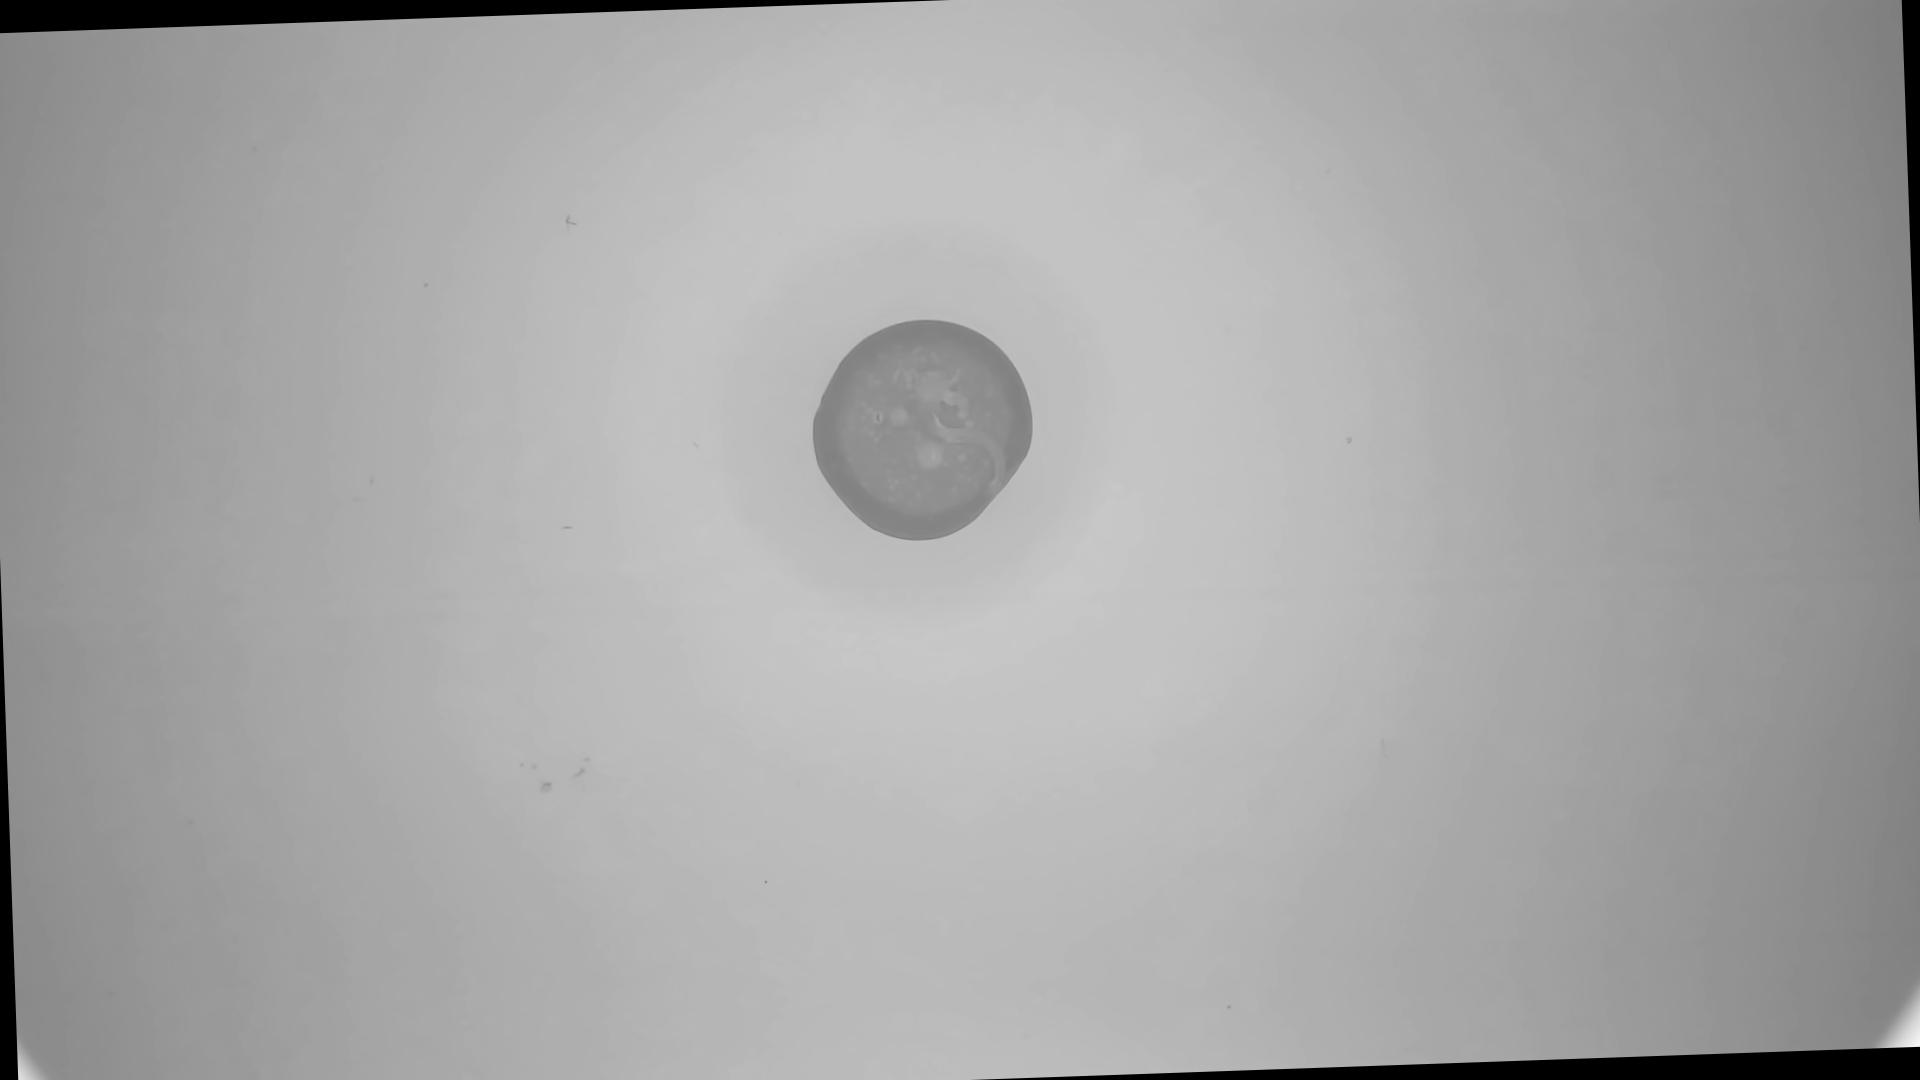abnormal: (807, 315, 1040, 547)
